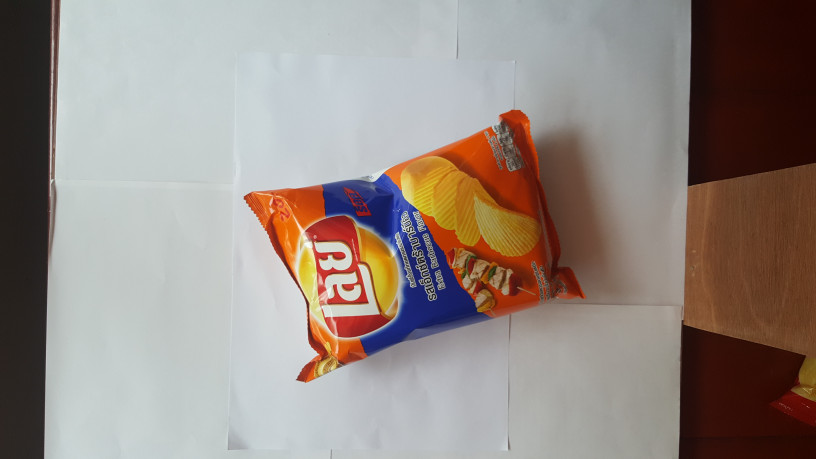lays-bbq: (241, 97, 595, 384)
